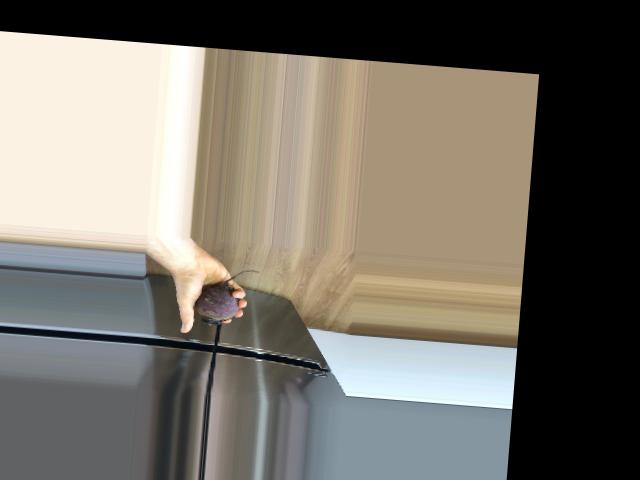beet: (193, 266, 261, 328)
